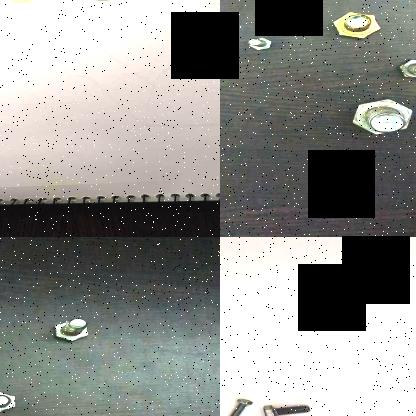Bolts: (348, 96, 416, 134), (324, 11, 385, 42), (45, 313, 91, 347), (238, 32, 278, 54), (222, 392, 252, 416), (392, 56, 416, 82), (259, 404, 311, 416), (0, 388, 22, 416)
